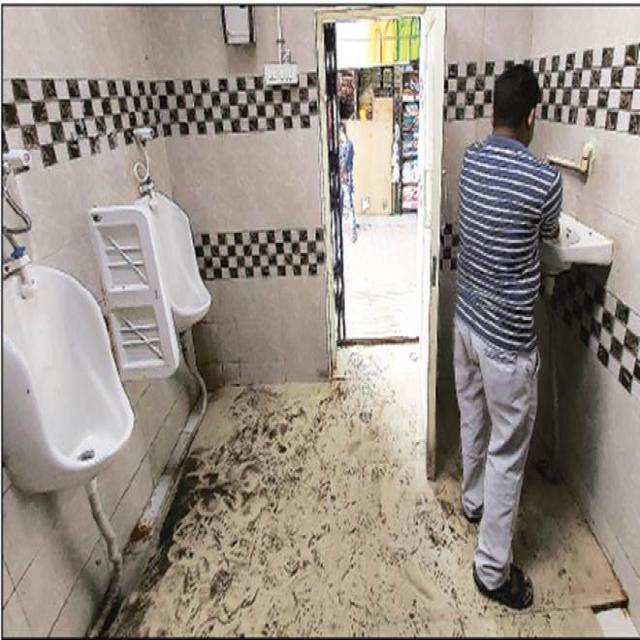dirty_floor: (2, 22, 638, 635), (2, 72, 327, 635), (85, 366, 625, 636), (164, 385, 436, 631), (445, 62, 567, 609), (3, 71, 321, 169), (190, 224, 327, 281)
